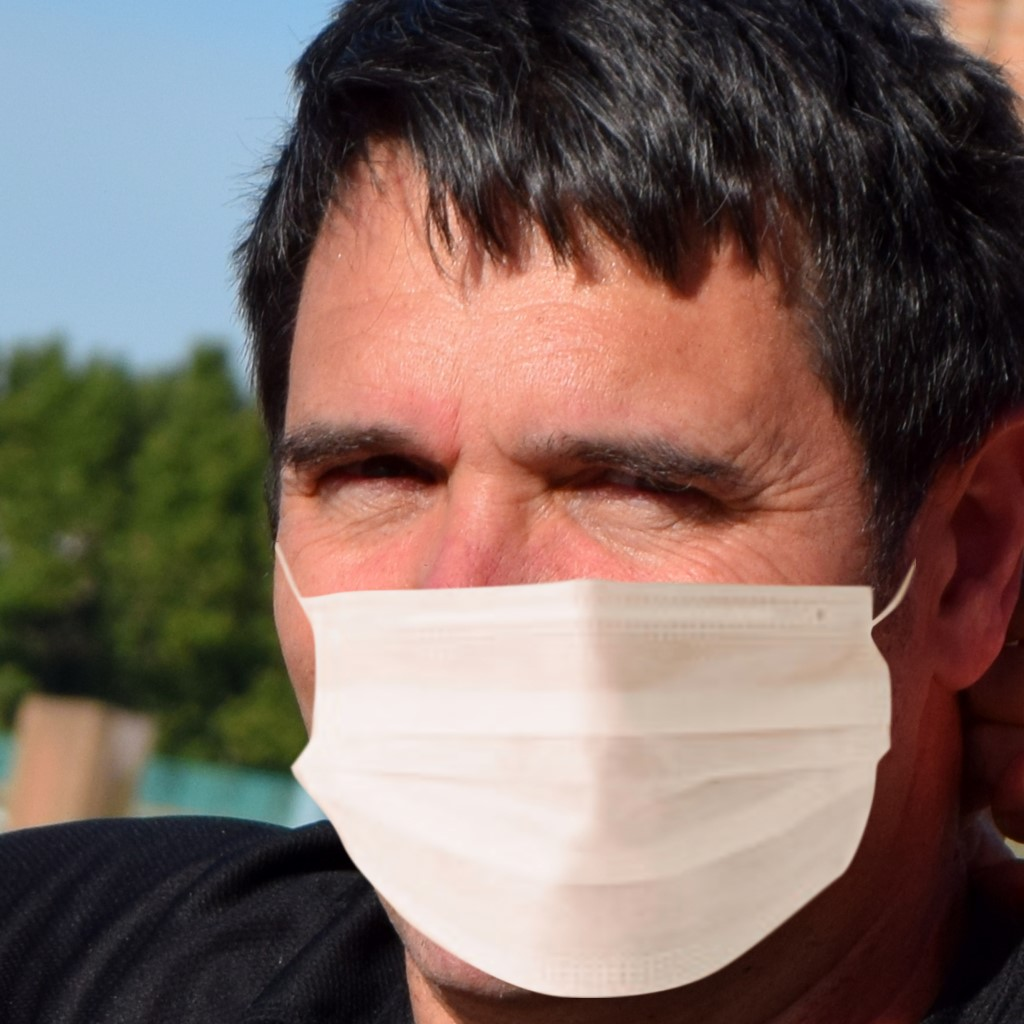con_mascara: (247, 98, 930, 987)
